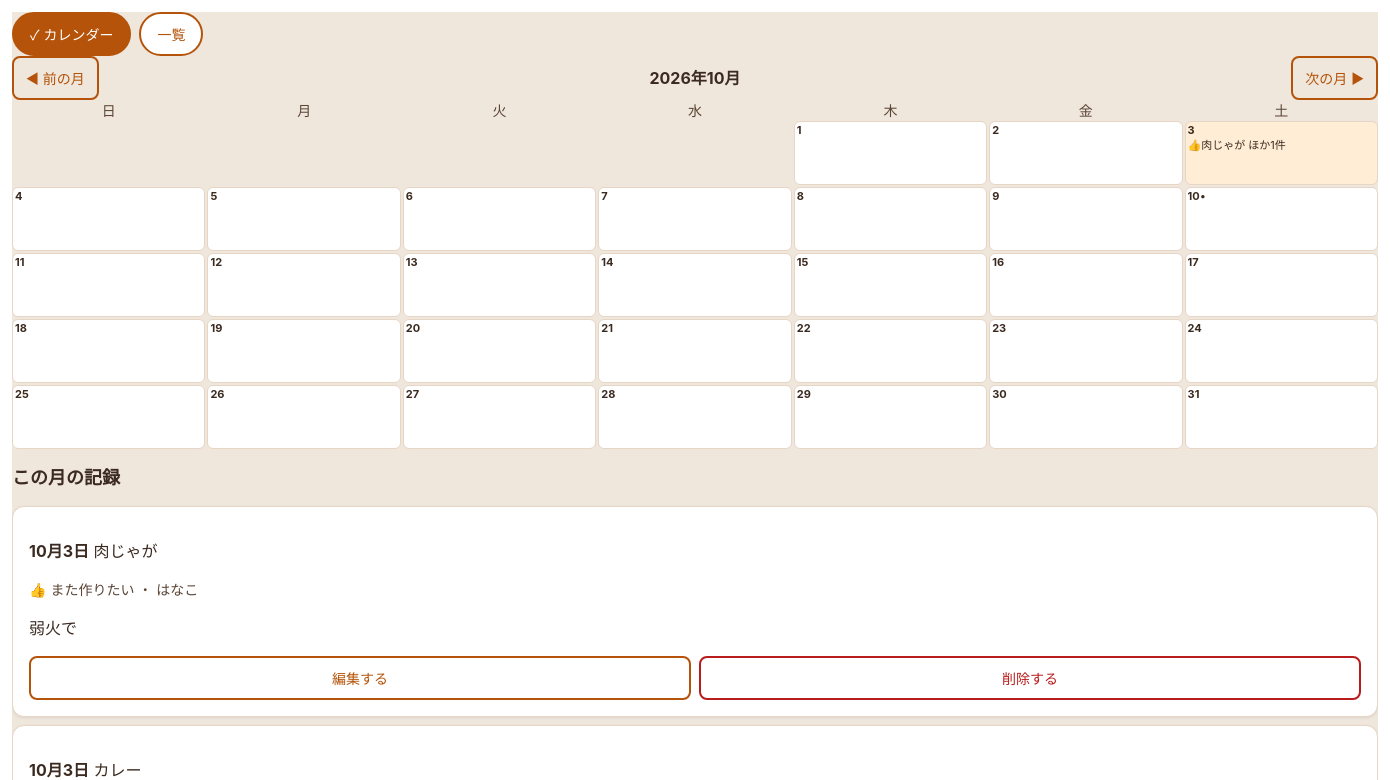
Test: 記録の画面：カレンダーと一覧 › 日をタップすると、その日の記録と追加ボタンが出る。記録のない日でも出る
The image size is (1390, 780).
What coordinates should you click on to do the following:
click the button with test id "cal-day-2026-10-03"
I would click on:
 (1281, 153)
Its box is [1185,121,1378,185].
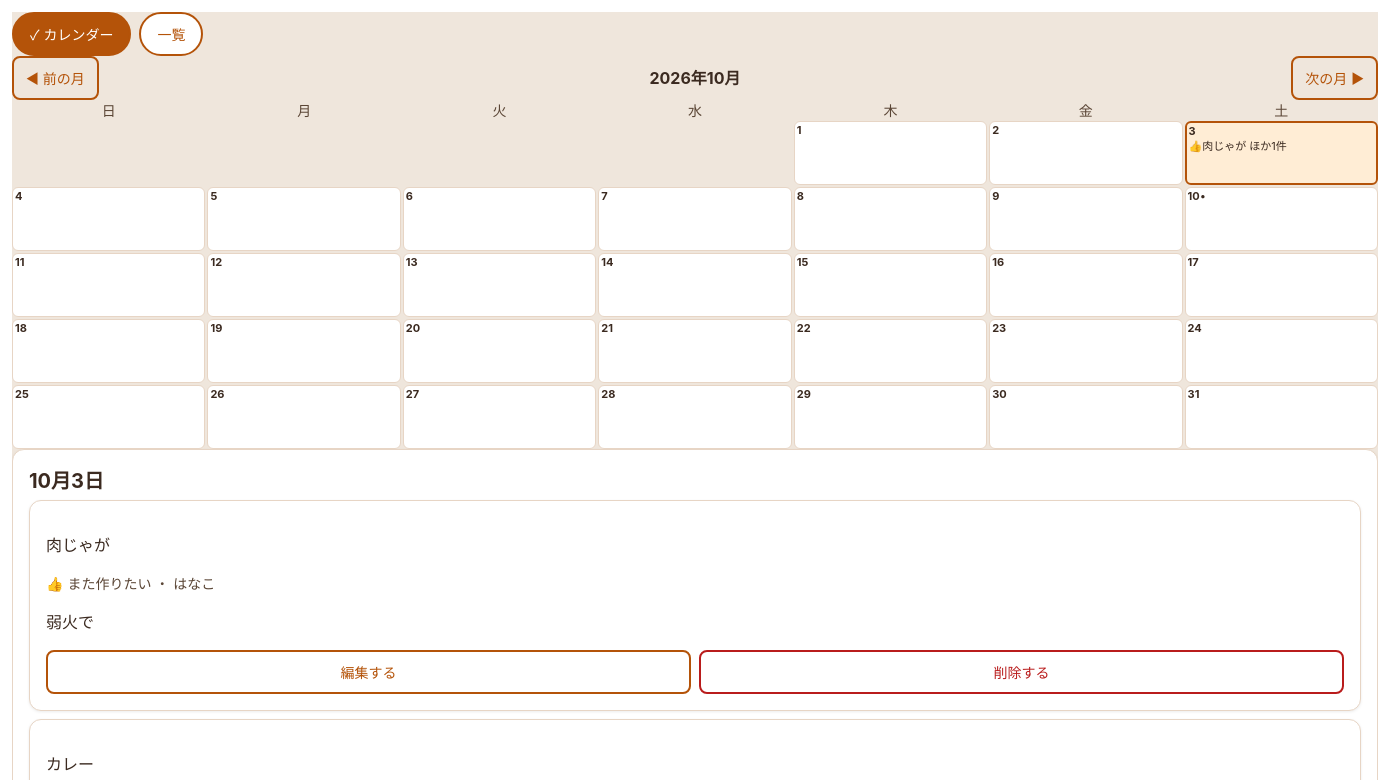
What coordinates should you click on to do the following:
click the button with test id "cal-day-2026-10-05"
I would click on:
 (304, 219)
Its box is [207,187,401,251].
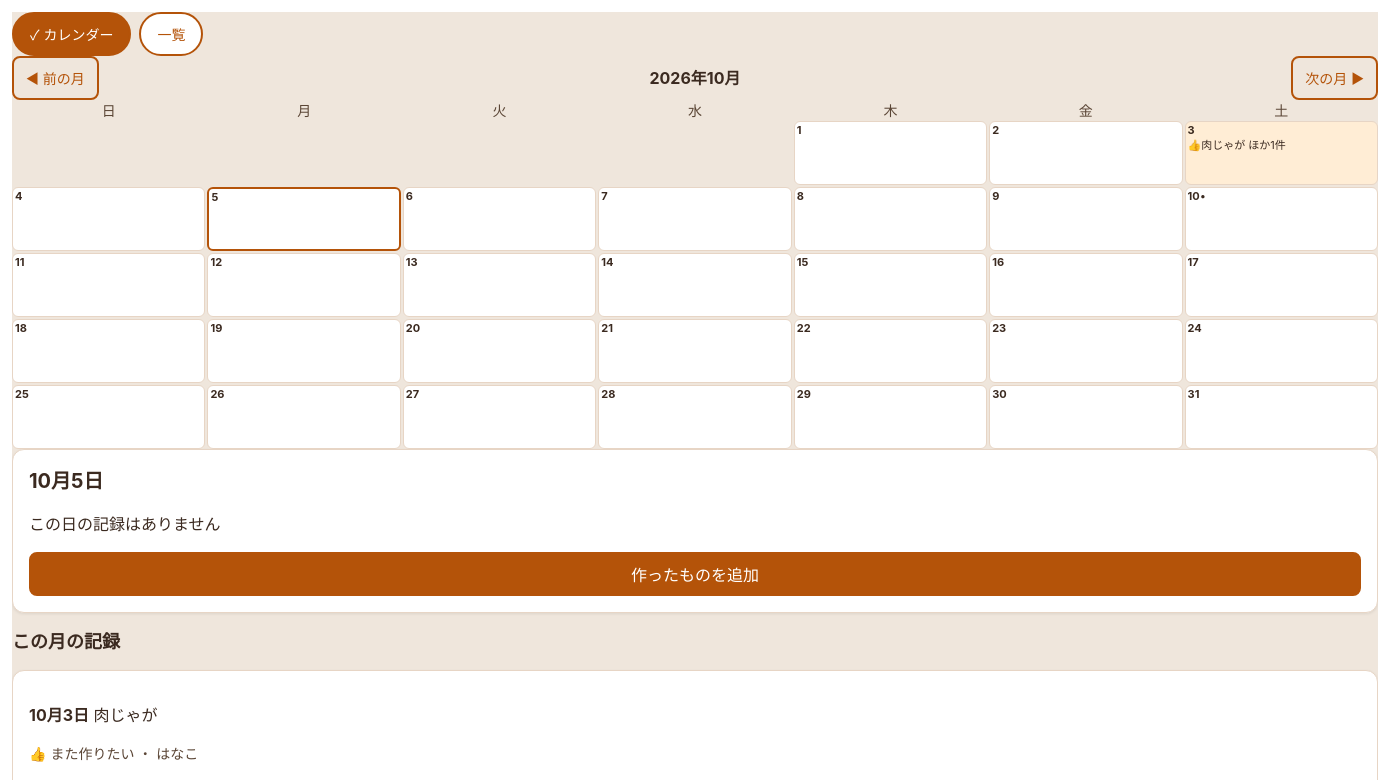
Check: the button with test id "day-add-button" is enabled, box [29,552,1361,596]
Check: the text "この日の記録はありません" is shown, box [29,514,220,534]
